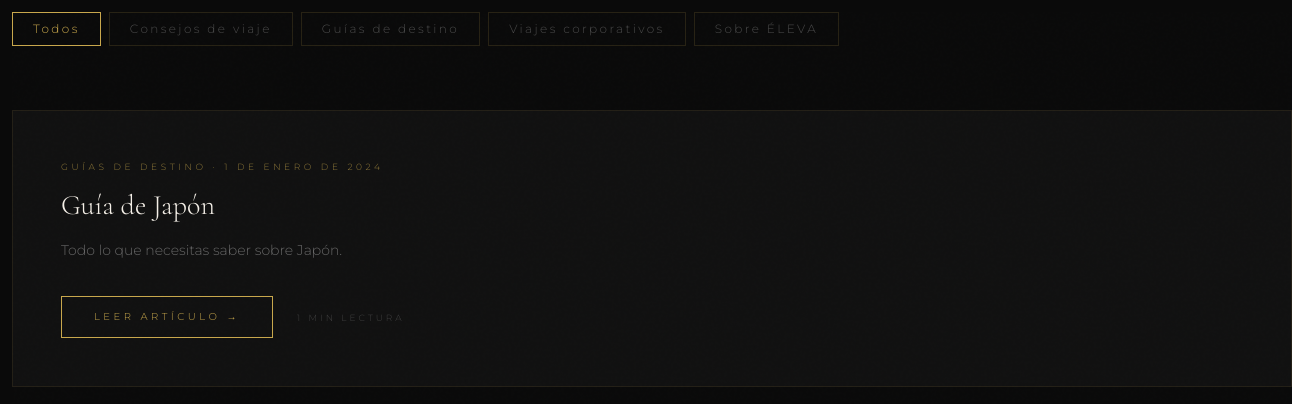
BlogFilterGrid — filtrado por categoría › muestra mensaje "No hay artículos" cuando no hay posts en la categoría
This screenshot has width=1292, height=404.
Click the list item "Consejos de viaje" at (201, 29), box [109,12,293,46]
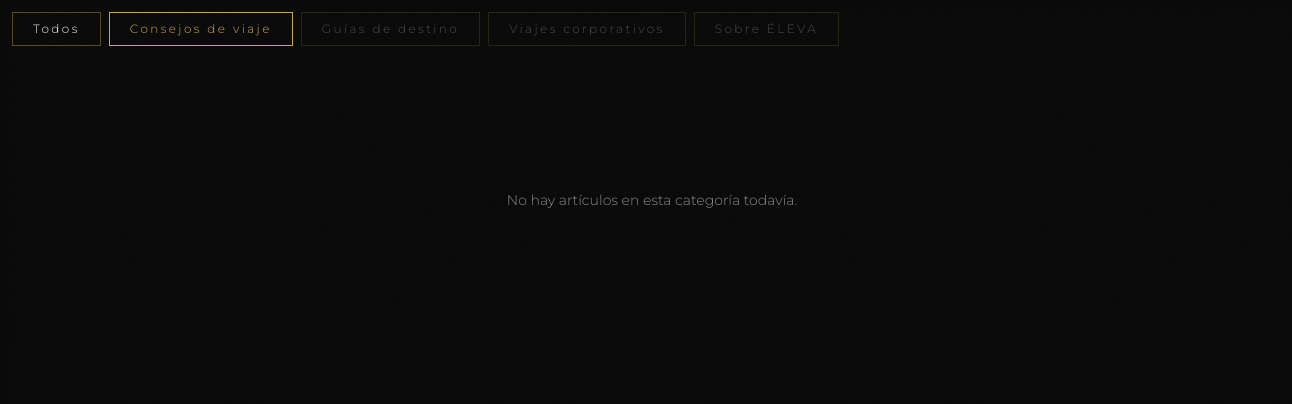
Check: the text "No hay artículos en esta categoría todavía." is shown, box [507,191,797,209]
